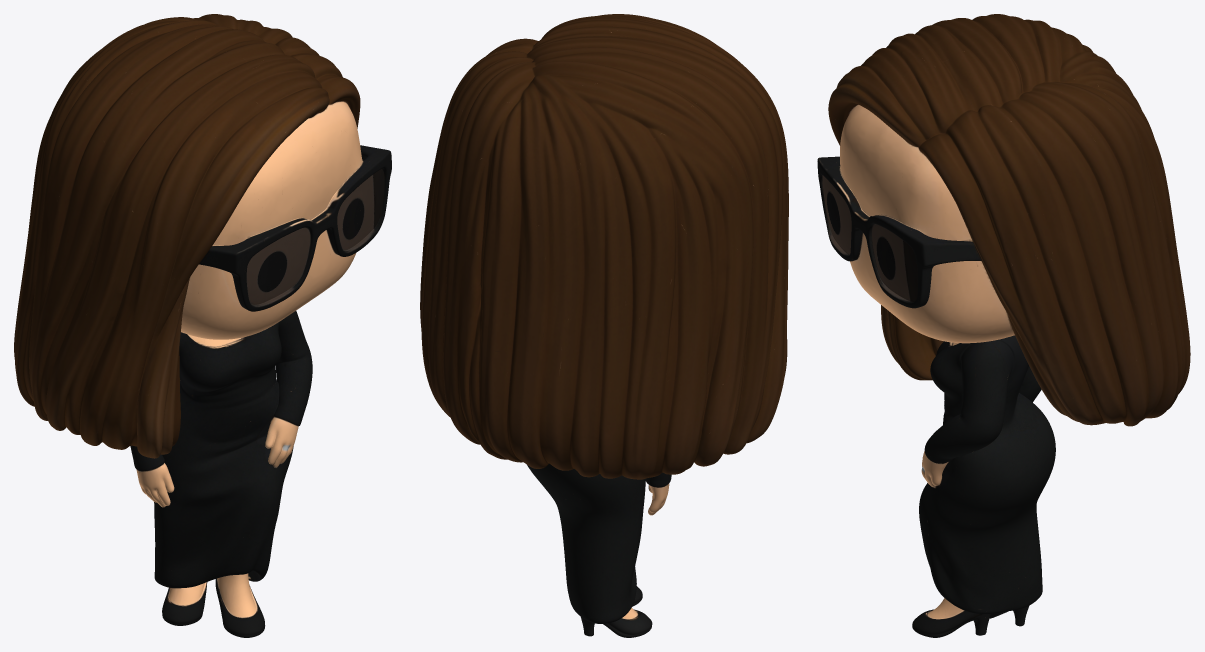
The model's file is sonya.glb.
3 views of the same model, side by side, from view 1: azimuth 30°, elevation 25°; view 2: azimuth 150°, elevation 25°; view 3: azimuth 270°, elevation 25° (orthographic). The views are drawn at different scales.
Bounding box in the file's own units: 1.1 × 1.9 × 1.11.
Materials: 1 (1 with a texture image).
